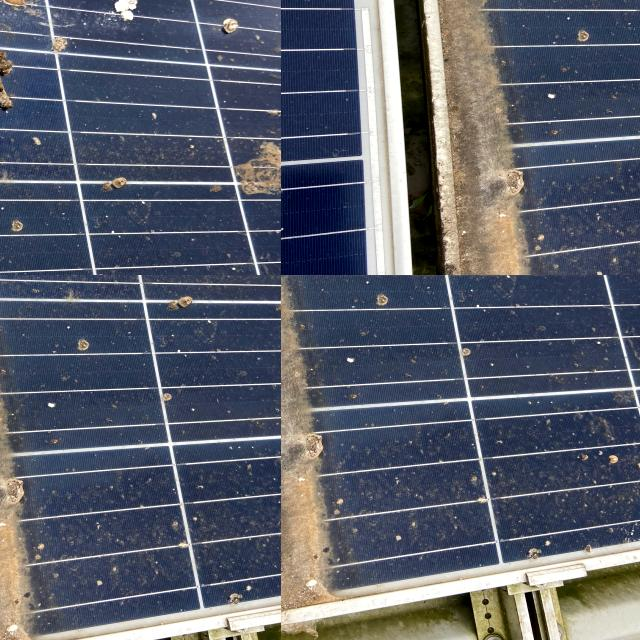bird: (282, 275, 403, 324), (41, 0, 185, 40), (0, 186, 36, 275), (341, 275, 413, 319), (566, 275, 640, 315), (441, 275, 524, 310), (517, 486, 547, 568), (612, 352, 640, 436), (449, 275, 522, 305), (561, 275, 629, 298), (0, 212, 30, 255), (369, 275, 424, 289), (501, 275, 578, 282), (52, 275, 71, 292), (49, 275, 71, 281), (0, 275, 10, 288), (30, 275, 46, 283), (0, 275, 10, 286), (13, 275, 30, 281), (0, 275, 10, 285), (0, 275, 12, 283), (0, 275, 11, 283), (0, 275, 12, 282), (0, 275, 11, 282), (0, 275, 8, 284), (0, 275, 9, 283), (0, 275, 14, 280), (0, 275, 11, 281), (0, 275, 5, 288), (0, 275, 9, 282), (0, 275, 10, 281), (0, 275, 7, 283), (0, 275, 10, 280), (32, 275, 42, 280), (0, 275, 7, 281), (0, 275, 8, 280), (0, 275, 5, 283), (0, 275, 7, 280), (0, 275, 11, 278), (0, 275, 4, 283), (0, 275, 5, 281), (0, 275, 6, 280), (0, 275, 7, 279), (0, 275, 8, 278), (0, 275, 5, 279), (0, 275, 6, 278), (0, 275, 8, 277)
